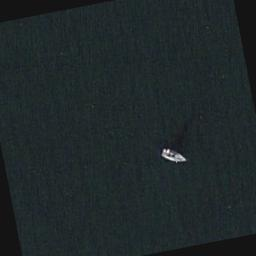boat: (158, 144, 188, 167)
